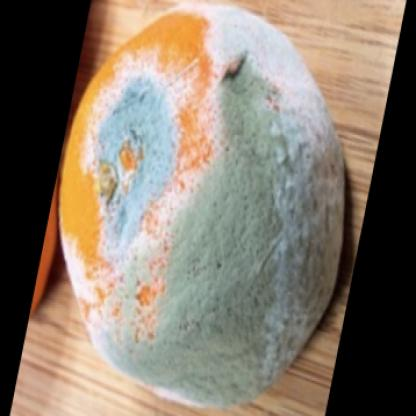rotten: (59, 1, 344, 401)
